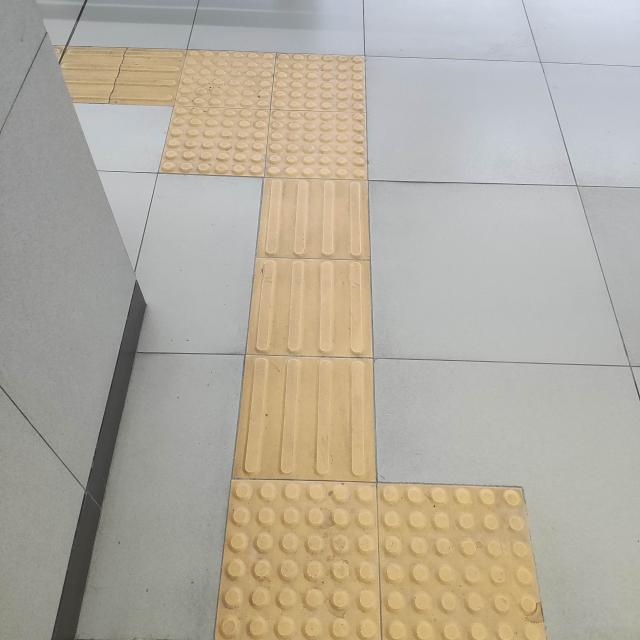kiri: (39, 6, 465, 238)
